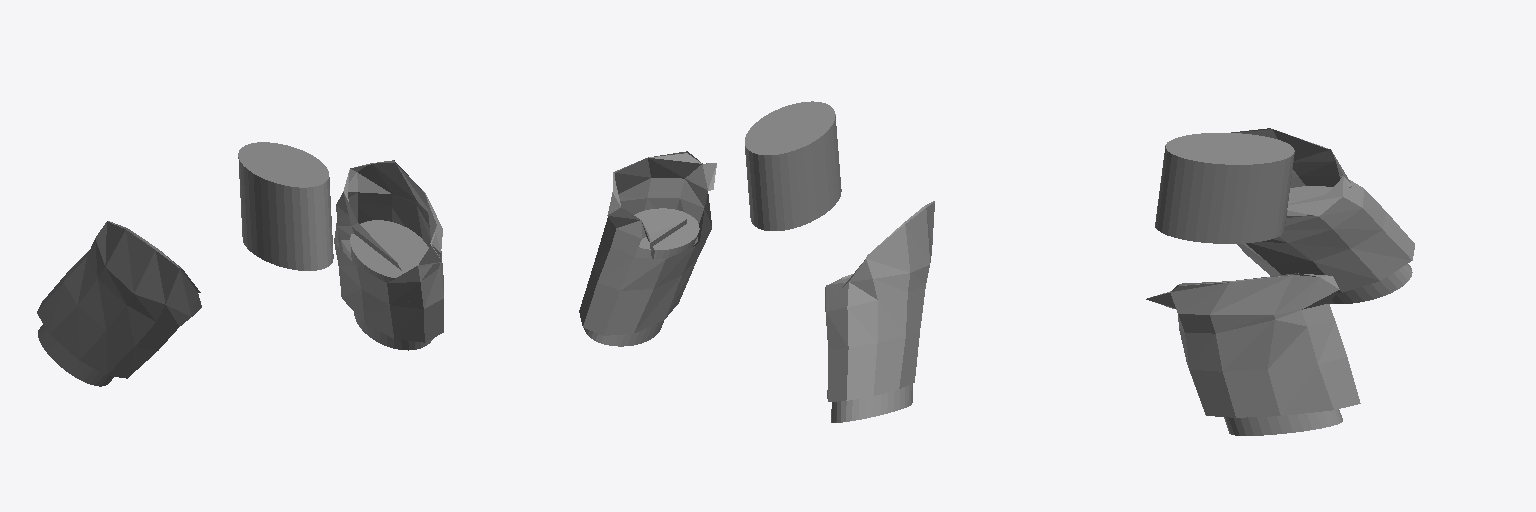
The model's file is droparm.obj.
The picture shows the model from 3 angles: view 1: azimuth 30°, elevation 25°; view 2: azimuth 150°, elevation 25°; view 3: azimuth 270°, elevation 25°; orthographic projection.
Parts seen in each view (by area): view 1: male01_mesh1_002_mesh1_geometry_male_02_1noCullingID_male_02_1no, group3_group2_pasted__pCylinder1, group3_group2_pasted__pasted__pCylinder1, group3_group2_pCylinder1; view 2: male01_mesh1_002_mesh1_geometry_male_02_1noCullingID_male_02_1no, group3_group2_pasted__pCylinder1, group3_group2_pasted__pasted__pCylinder1, group3_group2_pCylinder1; view 3: male01_mesh1_002_mesh1_geometry_male_02_1noCullingID_male_02_1no, group3_group2_pasted__pCylinder1, group3_group2_pasted__pasted__pCylinder1, group3_group2_pCylinder1.
Part boxes in pixels (left/top/right/bottom): male01_mesh1_002_mesh1_geometry_male_02_1noCullingID_male_02_1no: left=37, top=160, right=443, bottom=378; group3_group2_pasted__pCylinder1: left=238, top=142, right=333, bottom=270; group3_group2_pasted__pasted__pCylinder1: left=350, top=220, right=433, bottom=350; group3_group2_pCylinder1: left=38, top=324, right=113, bottom=386; male01_mesh1_002_mesh1_geometry_male_02_1noCullingID_male_02_1no: left=579, top=151, right=934, bottom=401; group3_group2_pasted__pCylinder1: left=745, top=101, right=841, bottom=230; group3_group2_pasted__pasted__pCylinder1: left=584, top=208, right=699, bottom=346; group3_group2_pCylinder1: left=831, top=383, right=912, bottom=422; male01_mesh1_002_mesh1_geometry_male_02_1noCullingID_male_02_1no: left=1146, top=128, right=1414, bottom=417; group3_group2_pasted__pCylinder1: left=1155, top=133, right=1294, bottom=243; group3_group2_pasted__pasted__pCylinder1: left=1224, top=409, right=1342, bottom=435; group3_group2_pCylinder1: left=1288, top=186, right=1412, bottom=303.
Bounding box in the file's own units: 18.33 × 11.42 × 12.65.